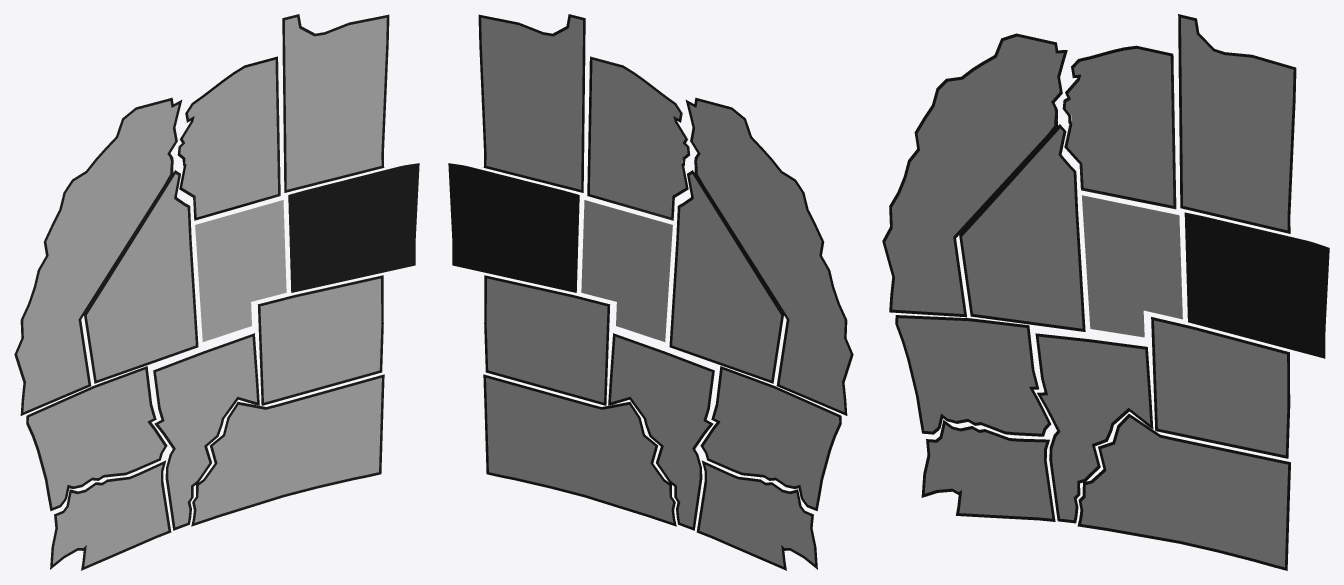
File: Level Dummy.fbx
The picture shows the model from 3 angles, left to right: view 1: azimuth 30°, elevation 25°; view 2: azimuth 150°, elevation 25°; view 3: azimuth 330°, elevation 25°; orthographic projection. The views are drawn at different scales.
Parts seen in each view (by area): view 1: NEW_MEXICO_Lvl_8.001; view 2: NEW_MEXICO_Lvl_8.001; view 3: NEW_MEXICO_Lvl_8.001.
Boxes of the visible parts, bbox=[...] form: NEW_MEXICO_Lvl_8.001: bbox=[14, 14, 419, 570]; NEW_MEXICO_Lvl_8.001: bbox=[448, 14, 853, 570]; NEW_MEXICO_Lvl_8.001: bbox=[882, 14, 1329, 570].
Size of the model in its own units: 4463 by 5301 by 0.1918.
11 materials, 11 textured.
